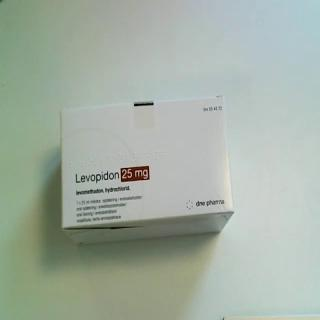levopidon25mg: (60, 94, 236, 246)
